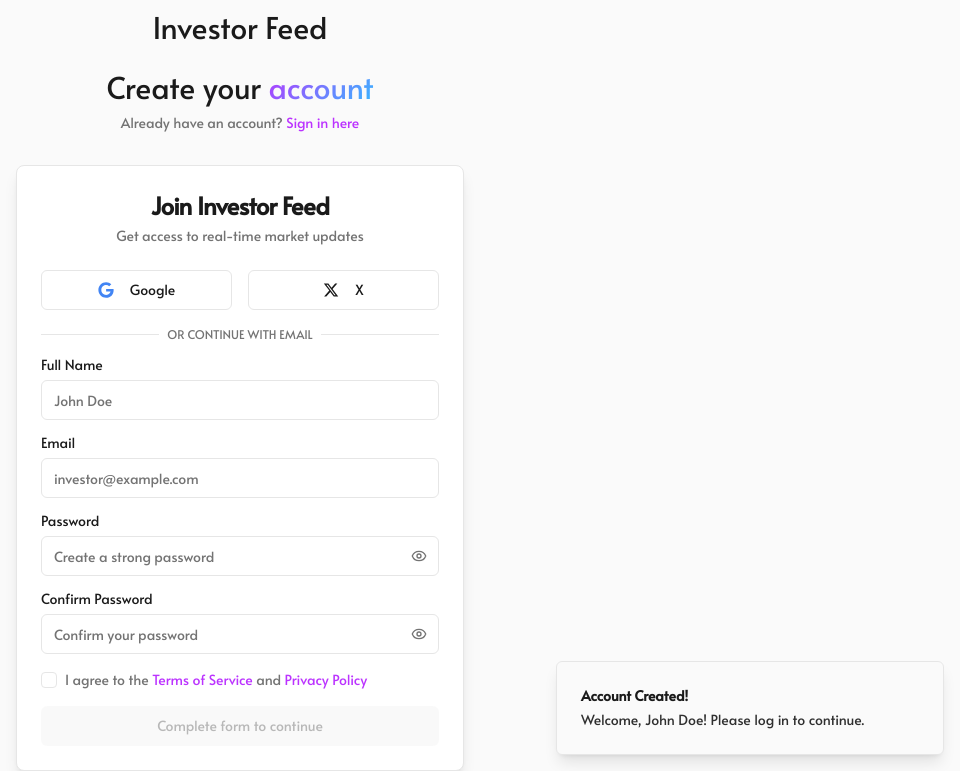
it: Signup Page › should show error when email already exists
# Fill with existing email
Type "Existing User" into the field labelled "Full Name" at (240, 400), box [41,380,439,420]
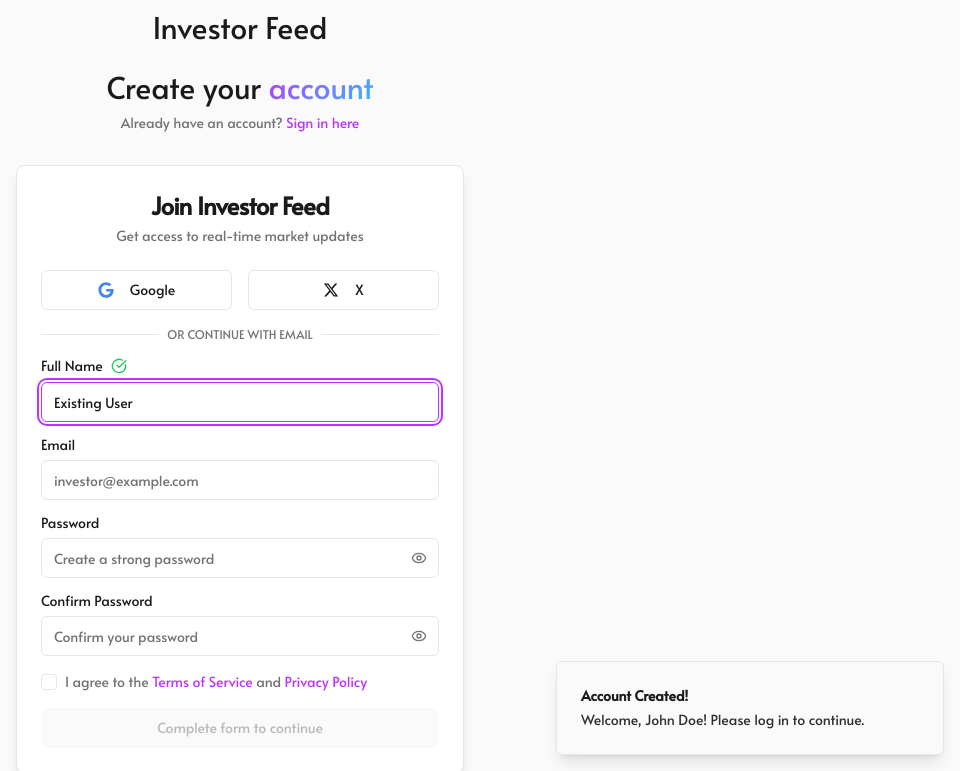
Type "existing@example.com" into the field labelled "Email" at (240, 480), box [41,460,439,500]
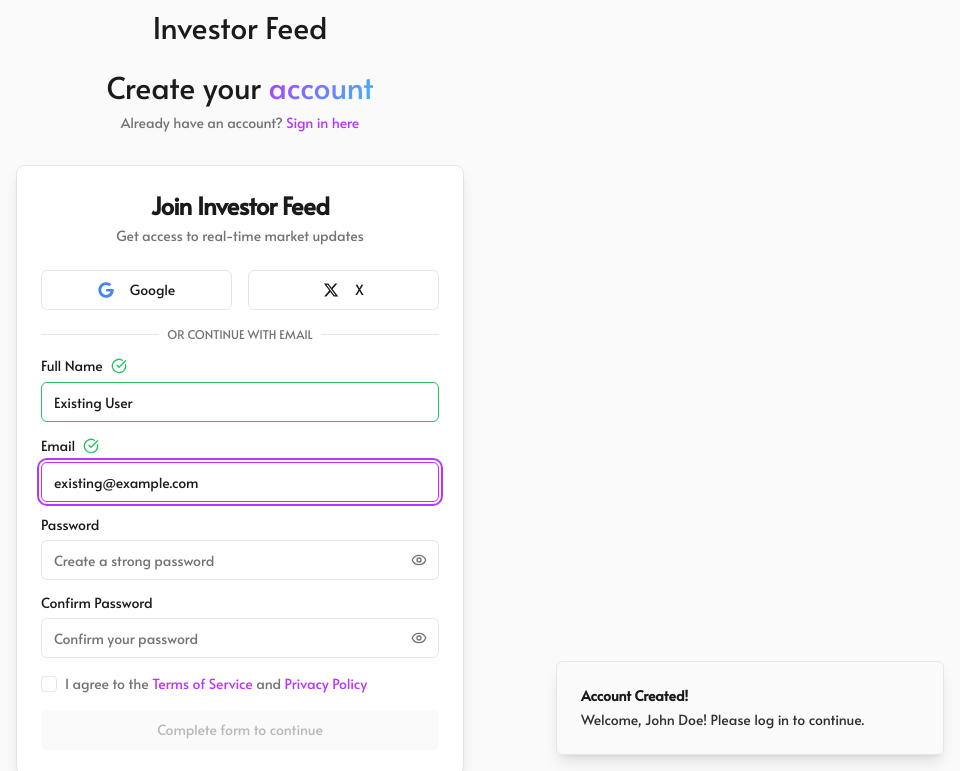
Type "Test123!" into the password field labelled "Password" at (240, 560), box [41,540,439,580]
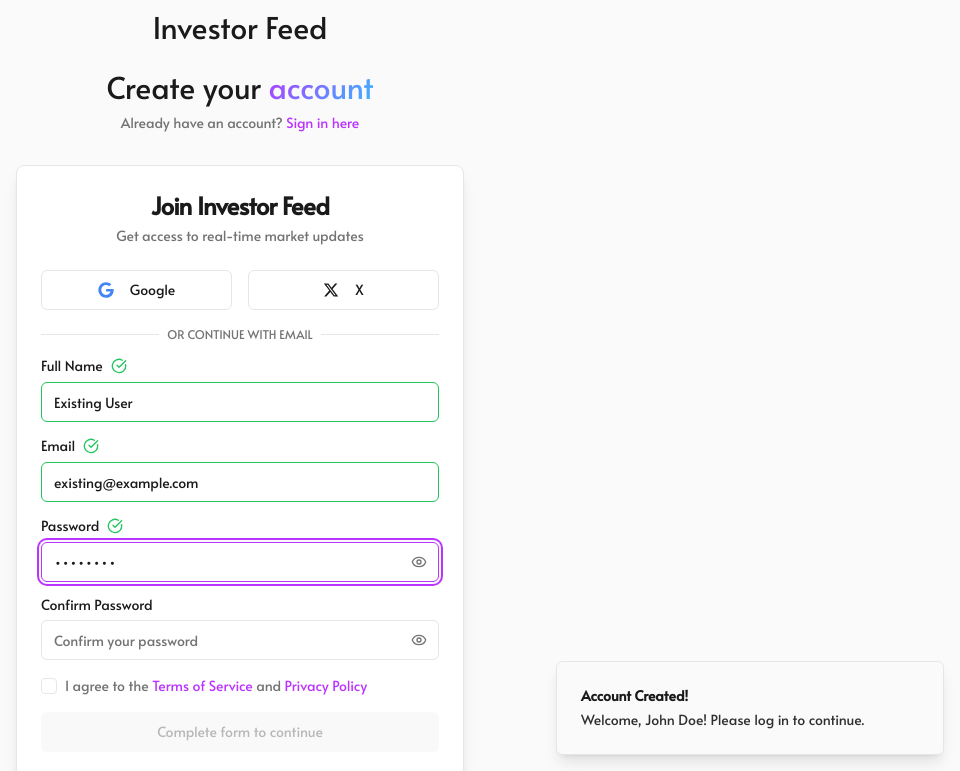
Type "Test123!" into the password field labelled "Confirm Password" at (240, 640), box [41,620,439,660]
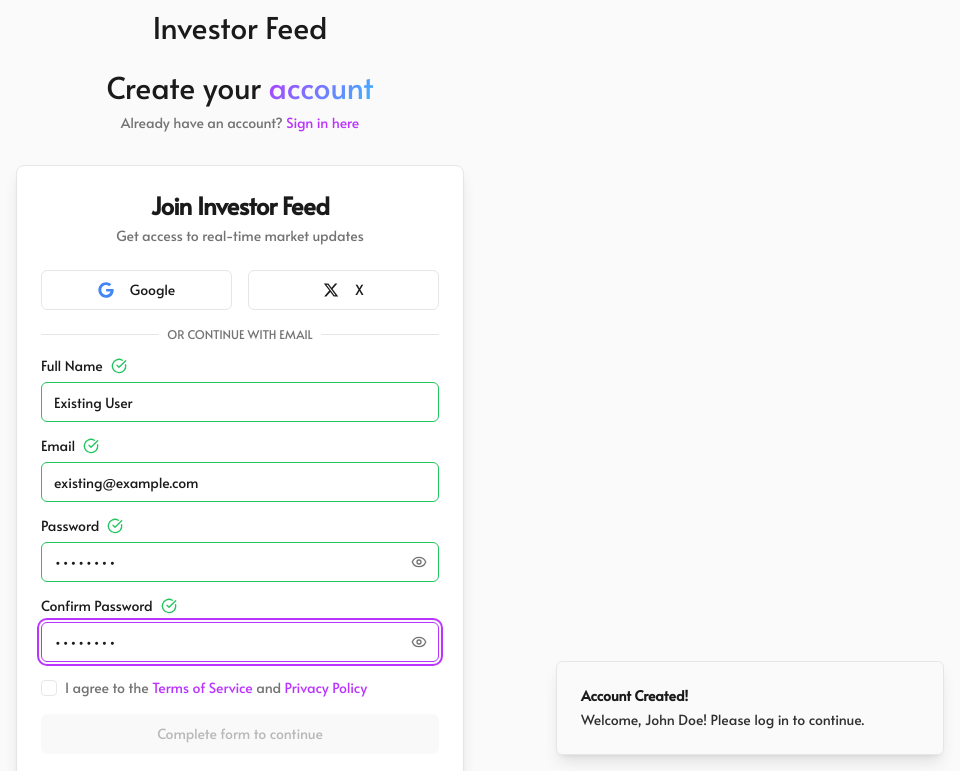
Click the checkbox at (49, 688), box [41,680,57,696]
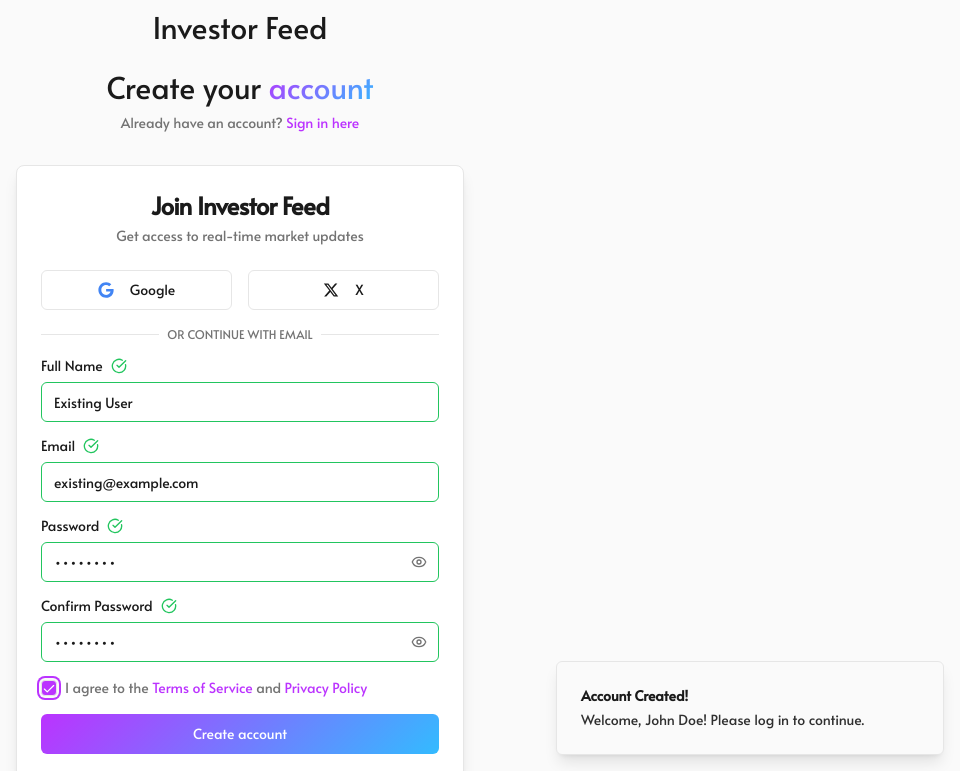
Click the button "Create account" at (240, 734), box [41,714,439,754]
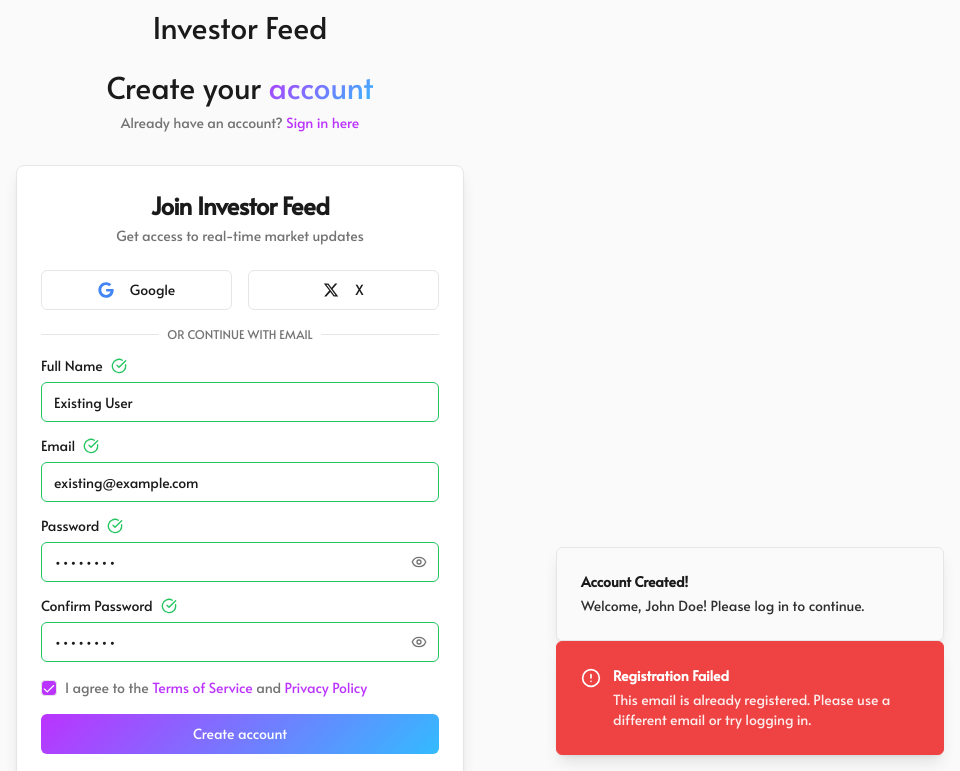
Expected: the text "already registered" is shown, [613,690,890,729]
